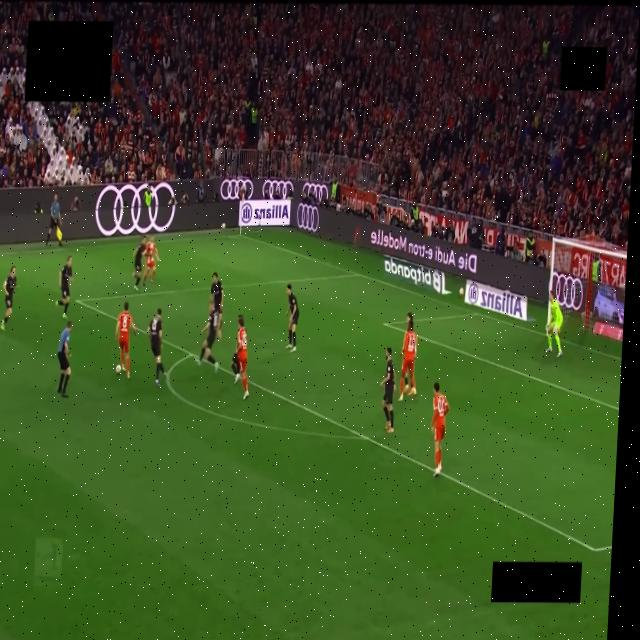ball: (115, 364, 120, 373)
player: (197, 304, 221, 372), (431, 382, 448, 476), (398, 313, 416, 401), (115, 302, 135, 378), (147, 308, 165, 386), (380, 347, 394, 433), (234, 316, 248, 400), (545, 291, 562, 357), (0, 265, 16, 330), (56, 257, 72, 319), (142, 236, 159, 288), (285, 284, 298, 352), (133, 235, 146, 291), (209, 273, 222, 329)
referee: (55, 320, 74, 398)
